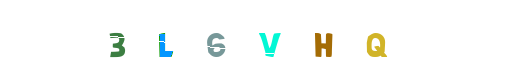3: (82, 0, 162, 80)
6: (189, 0, 269, 80)
H: (283, 0, 363, 80)
L: (164, 0, 244, 80)
Q: (330, 0, 410, 80)
V: (225, 0, 305, 80)
